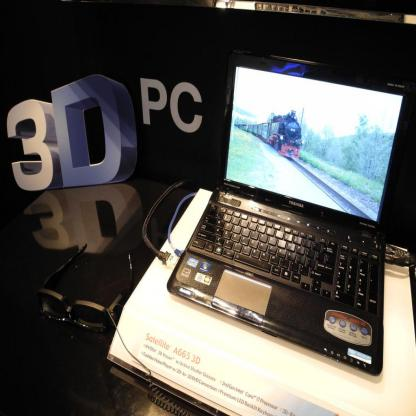board: (166, 44, 416, 376)
